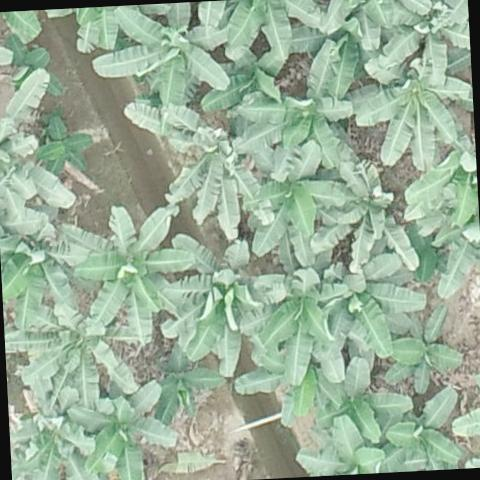Banana-plant: (121, 92, 290, 244), (150, 230, 286, 381), (2, 290, 156, 419), (236, 40, 370, 174), (86, 0, 234, 120), (343, 59, 476, 180), (234, 139, 354, 272), (298, 245, 430, 364), (65, 348, 181, 480), (304, 153, 421, 277), (242, 264, 351, 390), (0, 193, 92, 331), (6, 357, 109, 480), (303, 356, 418, 447), (372, 0, 472, 92), (196, 32, 306, 112), (377, 300, 468, 396), (136, 337, 228, 430), (387, 378, 470, 472), (290, 412, 392, 478), (3, 28, 66, 103), (32, 110, 98, 181)
